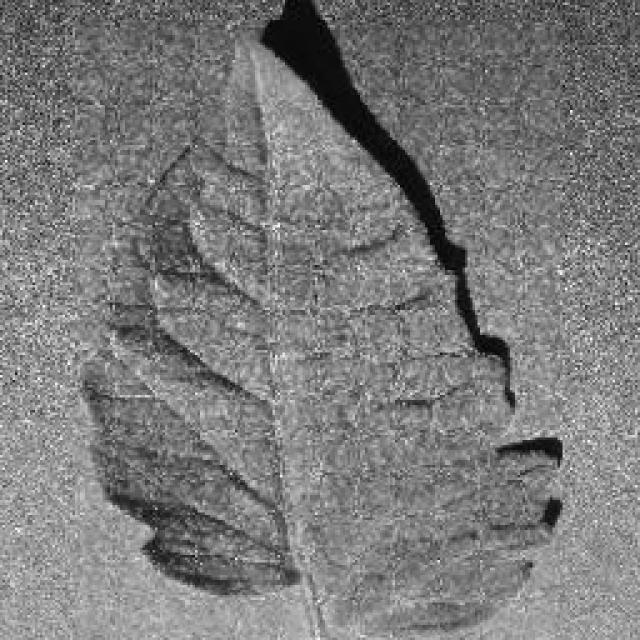Healthy: (72, 20, 562, 640)
